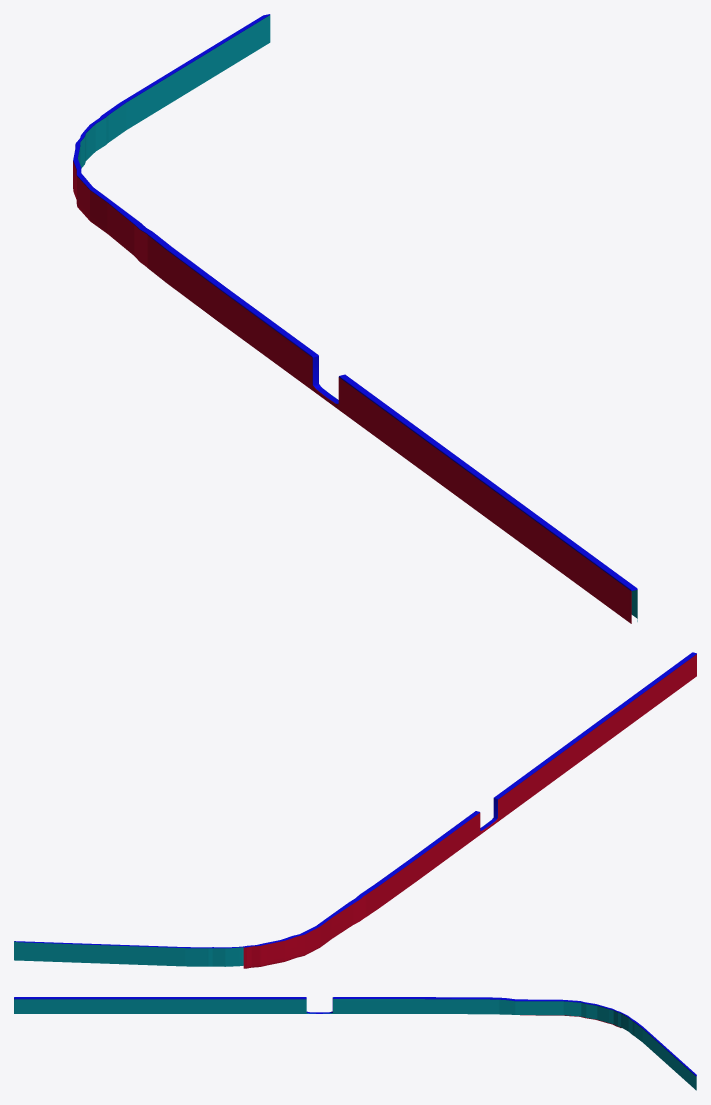
The model's file is FBXwall.fbx.
3 renders of one model, top to bottom at view 1: azimuth 30°, elevation 25°; view 2: azimuth 150°, elevation 25°; view 3: azimuth 270°, elevation 25°, orthographic. The views are drawn at different scales.
Visible parts, largest first — view 1: wallUvestfinal; view 2: wallUvestfinal; view 3: wallUvestfinal.
Boxes of the visible parts, box(x1,y1,x2,y2) form: wallUvestfinal: box(73, 14, 637, 623); wallUvestfinal: box(14, 652, 696, 968); wallUvestfinal: box(14, 997, 696, 1090).
Size of the model in its own units: 155 by 15.63 by 569.
